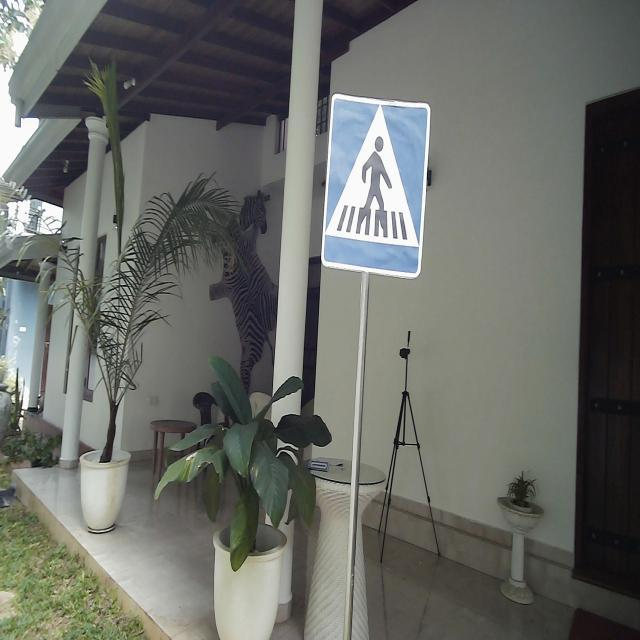crosswalk_sign: (320, 90, 433, 282)
